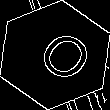O_SW: (20, 22, 90, 88)
